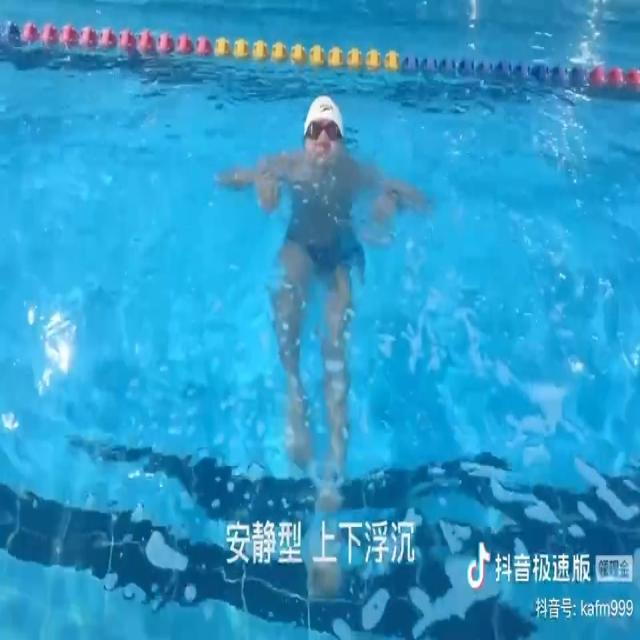Drowning: (213, 92, 433, 513)
